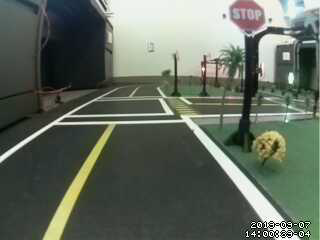Stop_Sign: (226, 3, 276, 42)
